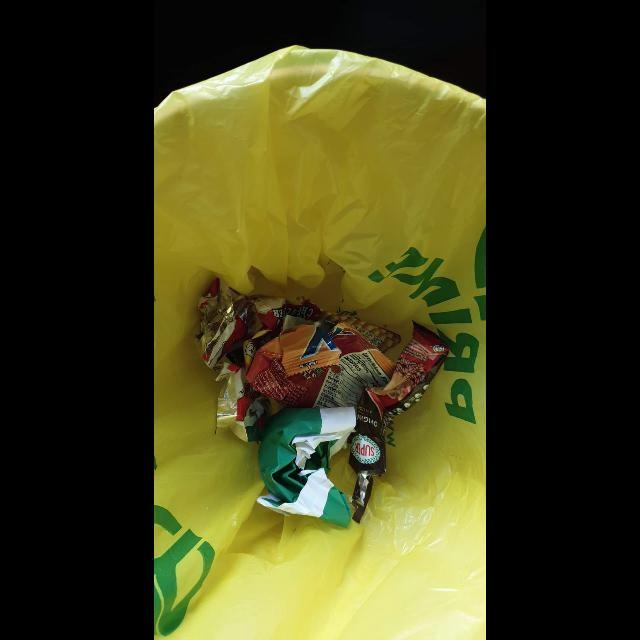food_wrapper: (195, 278, 402, 443), (348, 320, 450, 524)
paper: (257, 406, 357, 528)
